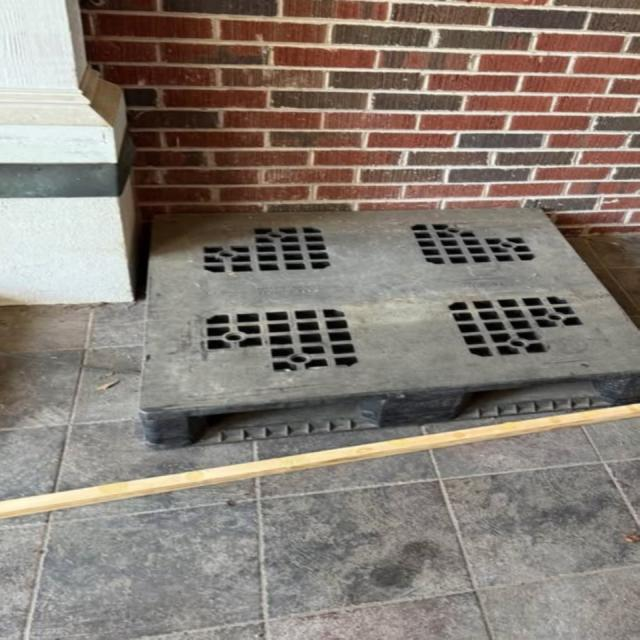non-igps: (126, 201, 639, 461)
